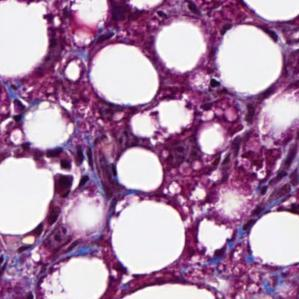inflammation: (44, 147, 95, 193)
